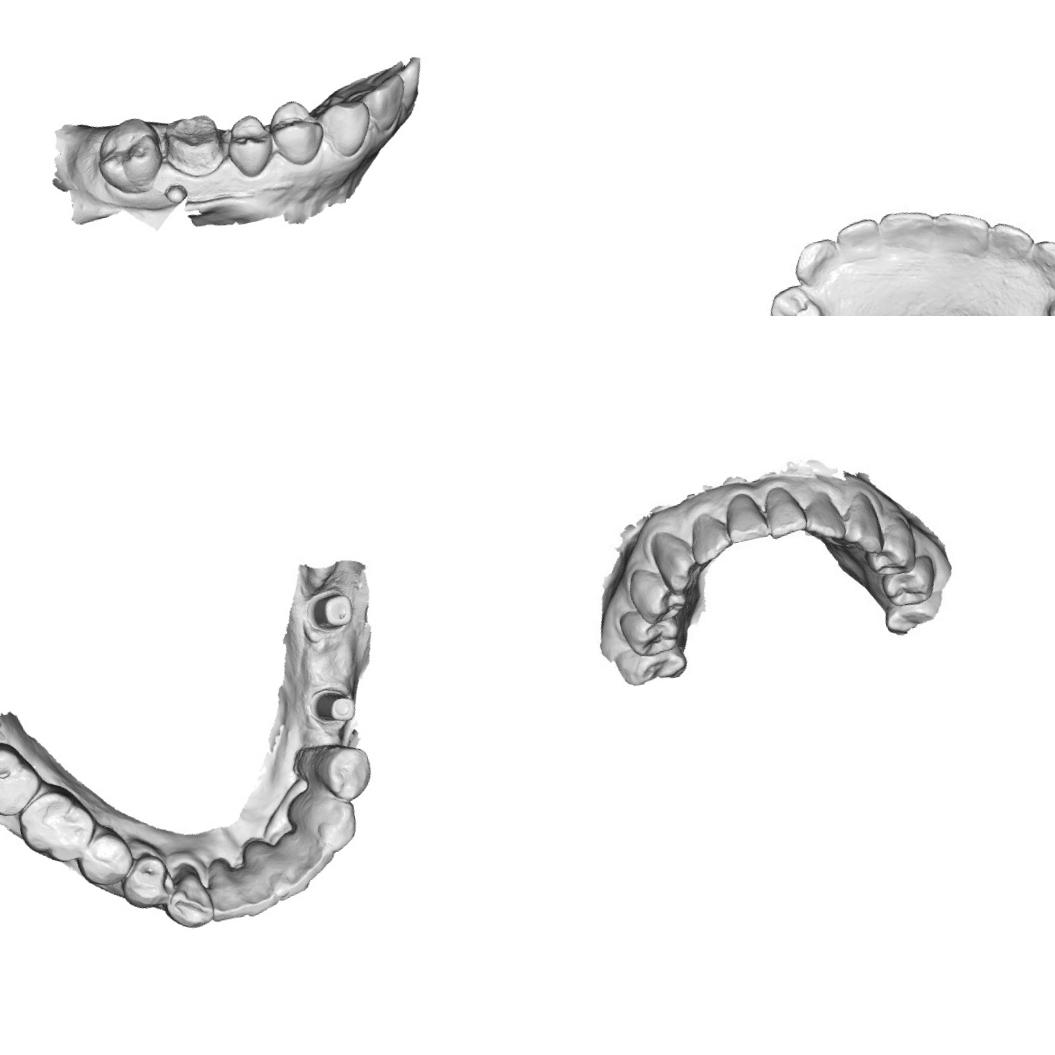abutment: (304, 680, 362, 731), (305, 584, 360, 636)
canine: (290, 786, 364, 860), (156, 864, 222, 935), (317, 91, 380, 164), (646, 524, 704, 600), (833, 491, 889, 559), (792, 238, 844, 288), (1029, 232, 1055, 291)
crown: (155, 100, 232, 184)
incisor: (272, 821, 343, 894), (198, 848, 258, 924), (931, 204, 995, 270), (357, 69, 416, 138), (232, 863, 288, 922), (878, 205, 939, 259), (261, 842, 313, 904), (759, 479, 810, 542), (717, 486, 768, 547), (686, 508, 736, 566), (802, 490, 848, 548), (830, 218, 884, 265), (392, 53, 433, 113), (986, 215, 1034, 265)
molar: (11, 780, 104, 873), (86, 110, 170, 202), (0, 731, 49, 826)
premolar: (259, 91, 331, 174), (306, 738, 379, 809), (72, 823, 140, 895), (219, 106, 282, 183), (614, 601, 688, 662), (113, 846, 178, 914), (626, 564, 692, 625), (875, 557, 940, 612), (864, 520, 923, 580), (766, 281, 826, 316)
